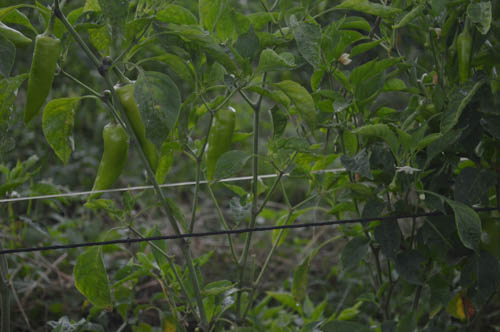ChiliPepper: (116, 84, 158, 165), (26, 35, 57, 119), (93, 123, 128, 194), (200, 107, 234, 171)
